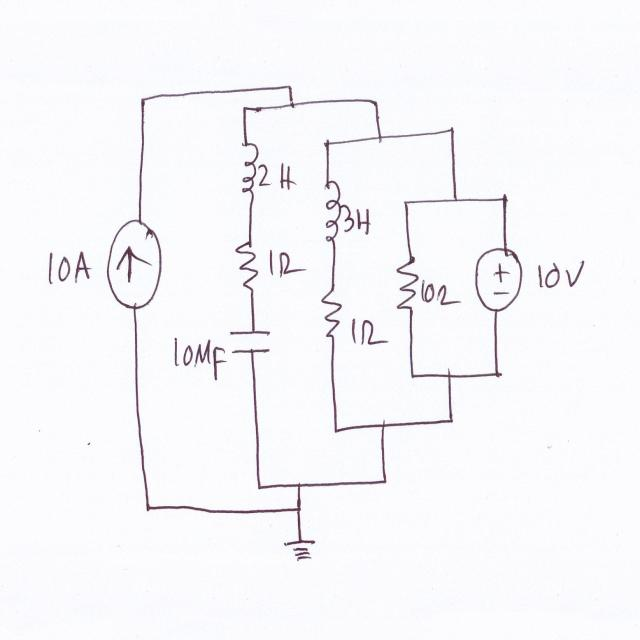capacitor: (226, 319, 276, 369)
current_source: (102, 213, 170, 315)
ground: (279, 533, 327, 572)
inductor: (316, 166, 343, 248), (236, 129, 261, 208)
resistor: (228, 234, 264, 303), (317, 278, 345, 354), (395, 252, 420, 328)
voltage_source: (474, 240, 526, 318)
